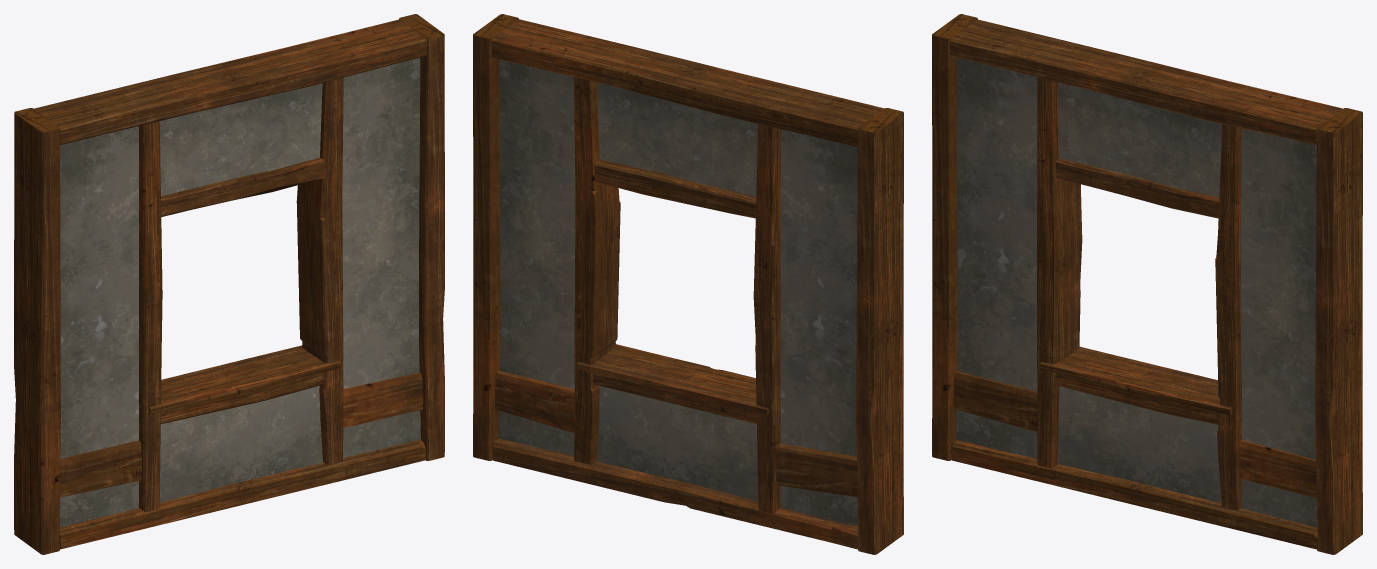
3 renders of one model, left to right at view 1: azimuth 30°, elevation 25°; view 2: azimuth 150°, elevation 25°; view 3: azimuth 330°, elevation 25°, orthographic.
Parts seen in each view (by area): view 1: SM_BB_T2_Wall_Large_Windowframe_LOD0; view 2: SM_BB_T2_Wall_Large_Windowframe_LOD0; view 3: SM_BB_T2_Wall_Large_Windowframe_LOD0.
Boxes of the visible parts, <box> form: SM_BB_T2_Wall_Large_Windowframe_LOD0: <box>14,14,444,554</box>; SM_BB_T2_Wall_Large_Windowframe_LOD0: <box>473,14,903,554</box>; SM_BB_T2_Wall_Large_Windowframe_LOD0: <box>932,14,1362,554</box>.
Bounding box in the file's own units: 3 × 3 × 0.3776.
2 materials, 2 textured.
